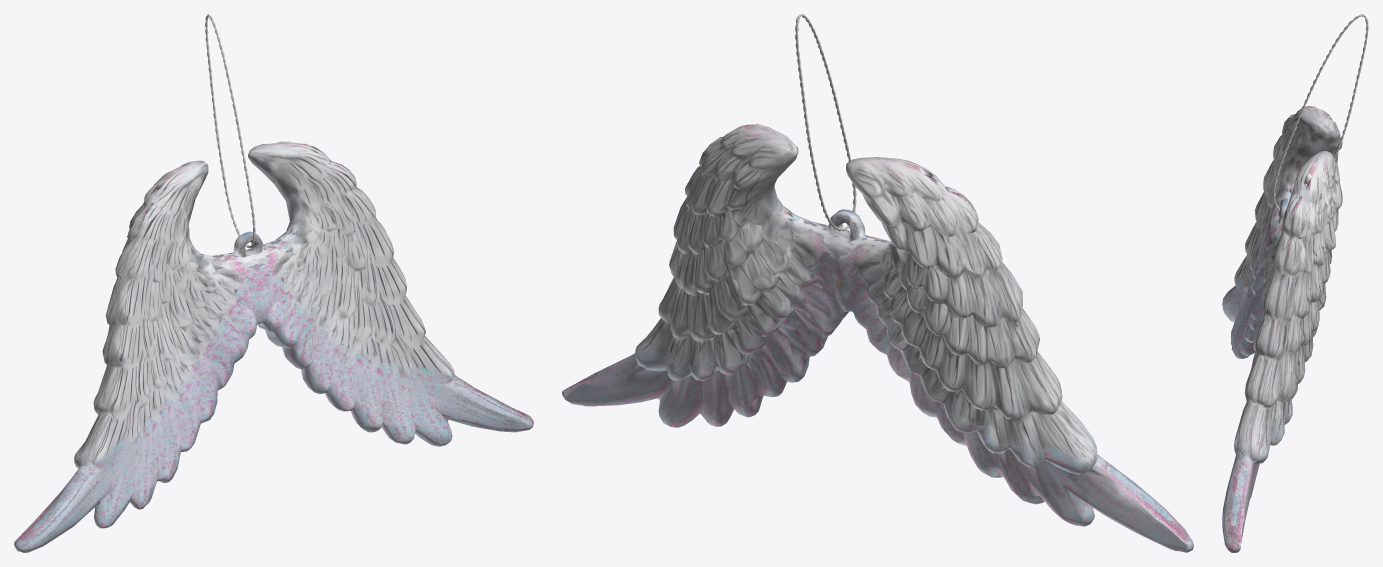
File: wing.glb
3 renders of one model, left to right at view 1: azimuth 30°, elevation 25°; view 2: azimuth 150°, elevation 25°; view 3: azimuth 270°, elevation 25°, orthographic. The views are drawn at different scales.
Parts seen in each view (by area): view 1: Meshy_AI_Iridescent_Wings_0624164919_texture, GN Instance; view 2: Meshy_AI_Iridescent_Wings_0624164919_texture, GN Instance; view 3: Meshy_AI_Iridescent_Wings_0624164919_texture, GN Instance.
Part boxes in pixels (box(x1,y1,x2,y2)): Meshy_AI_Iridescent_Wings_0624164919_texture: box(14, 141, 533, 552); GN Instance: box(205, 14, 255, 248); Meshy_AI_Iridescent_Wings_0624164919_texture: box(562, 124, 1193, 552); GN Instance: box(795, 14, 856, 231); Meshy_AI_Iridescent_Wings_0624164919_texture: box(1222, 106, 1342, 552); GN Instance: box(1273, 14, 1368, 211).
Size of the model in its own units: 0.2282 by 0.181 by 0.0574.
2 materials, 1 textured.
